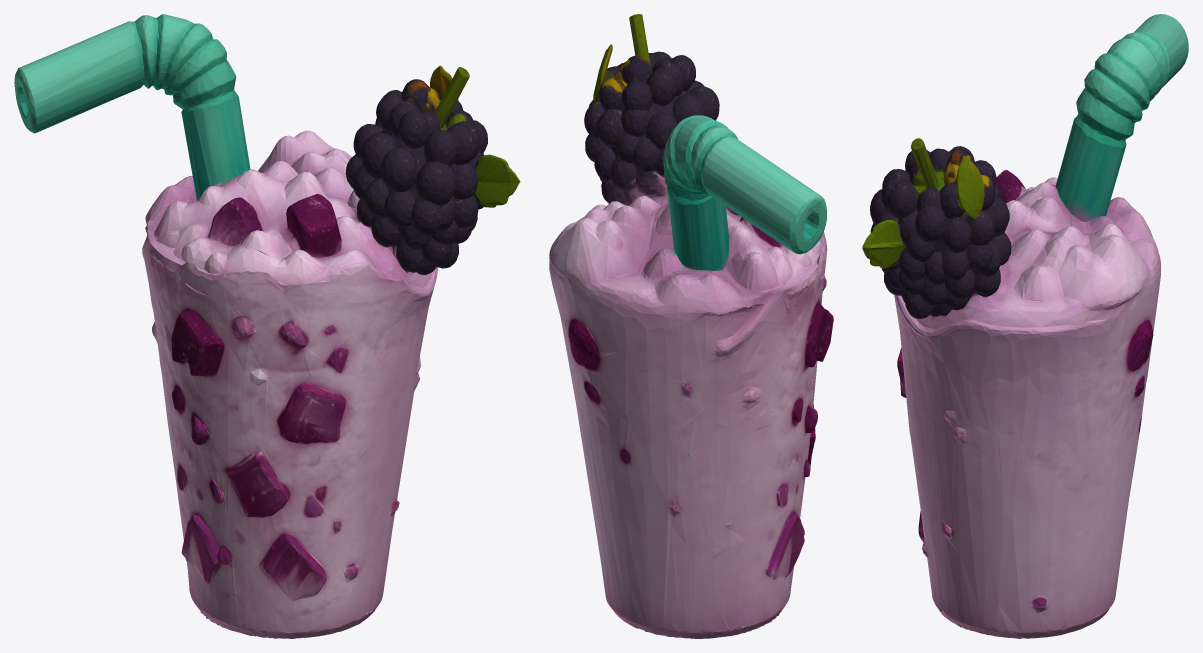
The model's file is Web_MilkSlush_Blackberry.obj.
3 views of the same model, side by side, from view 1: azimuth 30°, elevation 25°; view 2: azimuth 150°, elevation 25°; view 3: azimuth 270°, elevation 25° (orthographic). The views are drawn at different scales.
Visible parts, largest first — view 1: Web_MilkSlush_Blackberry; view 2: Web_MilkSlush_Blackberry; view 3: Web_MilkSlush_Blackberry.
Boxes of the visible parts, x1,y1,x2,y2 form: Web_MilkSlush_Blackberry: [14, 14, 520, 638]; Web_MilkSlush_Blackberry: [549, 14, 833, 638]; Web_MilkSlush_Blackberry: [862, 14, 1188, 638].
Size of the model in its own units: 0.6466 by 0.9998 by 0.5549.
1 material, 1 textured.
